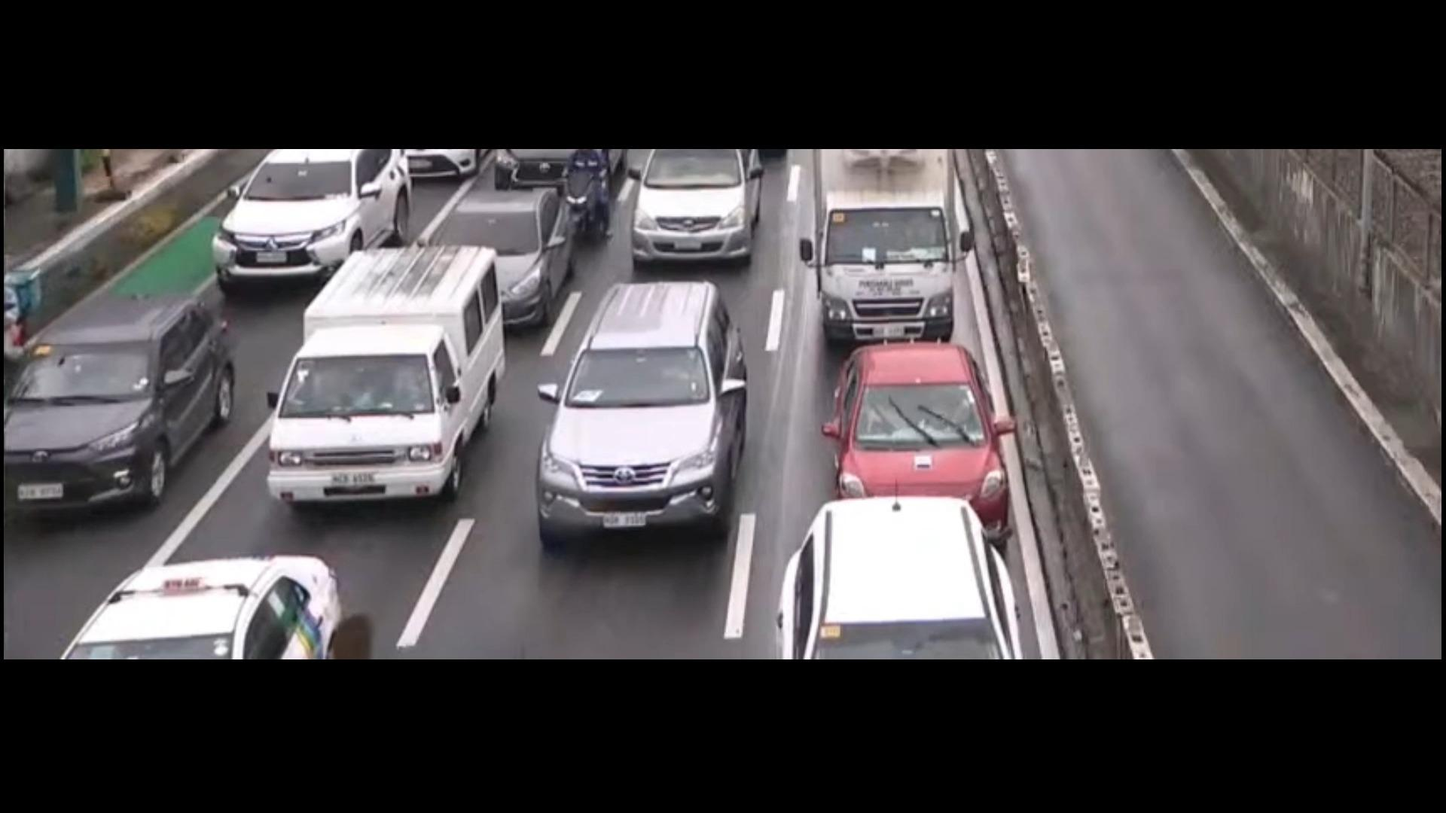Motorcycle: (560, 148, 613, 241)
Multicab: (271, 246, 509, 507)
SUV: (533, 283, 750, 556), (5, 300, 238, 521), (774, 497, 1024, 660), (211, 150, 413, 288), (634, 152, 762, 262)
Sedan: (827, 345, 1012, 547), (59, 553, 349, 661), (427, 189, 575, 333)
Truck: (813, 150, 958, 349)
